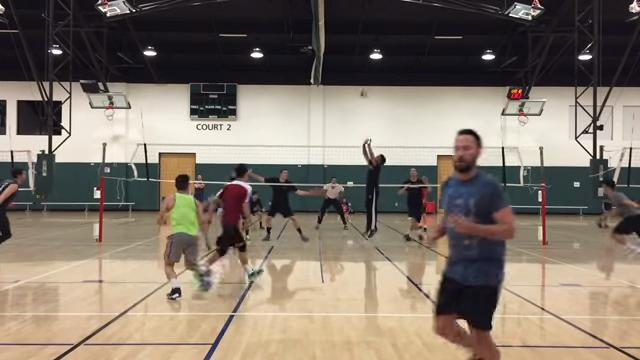Player: (200, 164, 261, 280), (158, 174, 208, 299), (249, 169, 319, 241), (602, 180, 639, 252), (398, 168, 426, 240), (0, 168, 25, 243), (315, 177, 347, 229), (244, 192, 264, 239), (419, 187, 430, 232), (597, 199, 612, 227)
Set: (355, 135, 388, 242)
ball: (358, 88, 367, 97)
